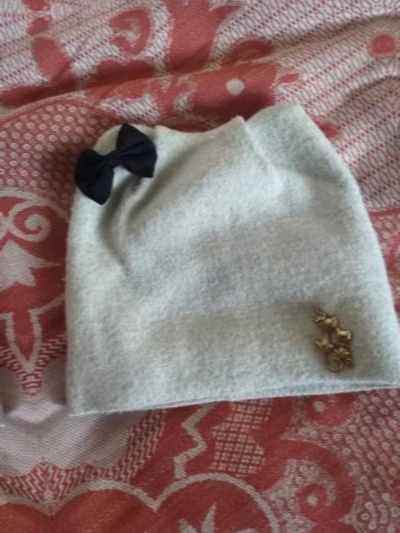Hat: (21, 40, 400, 466), (0, 103, 11, 530), (394, 0, 400, 410)
